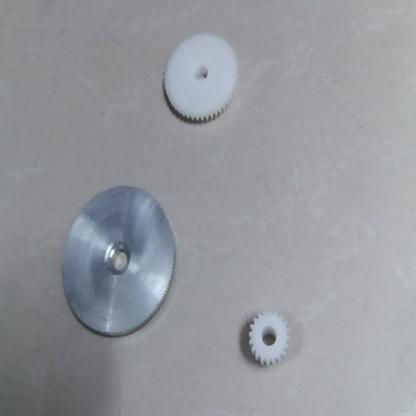FOD: (59, 184, 181, 340), (157, 32, 246, 122), (246, 308, 291, 369)
